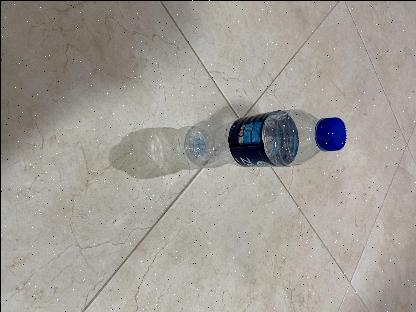Plastic Bottle: (183, 109, 346, 167)
